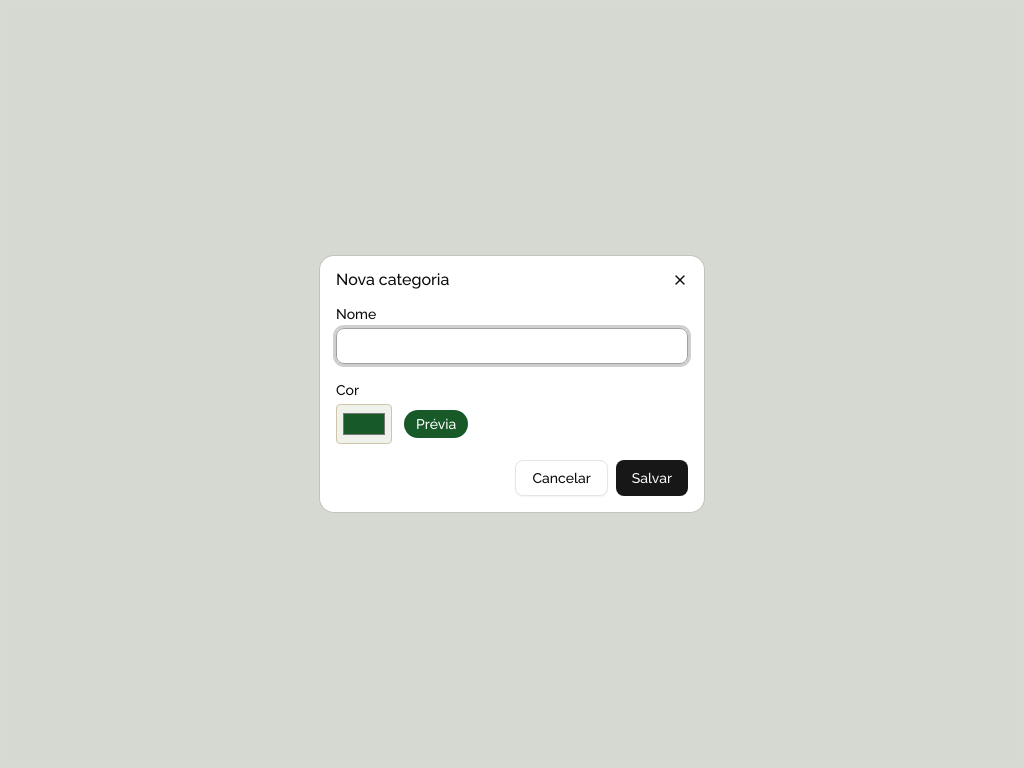
CategoryDialog › surfaces the backend error and keeps the dialog open when saving fails
Type "Bingo" into the field labelled "Nome" at [512, 346], box top-left (336, 328), bottom-right (688, 364)
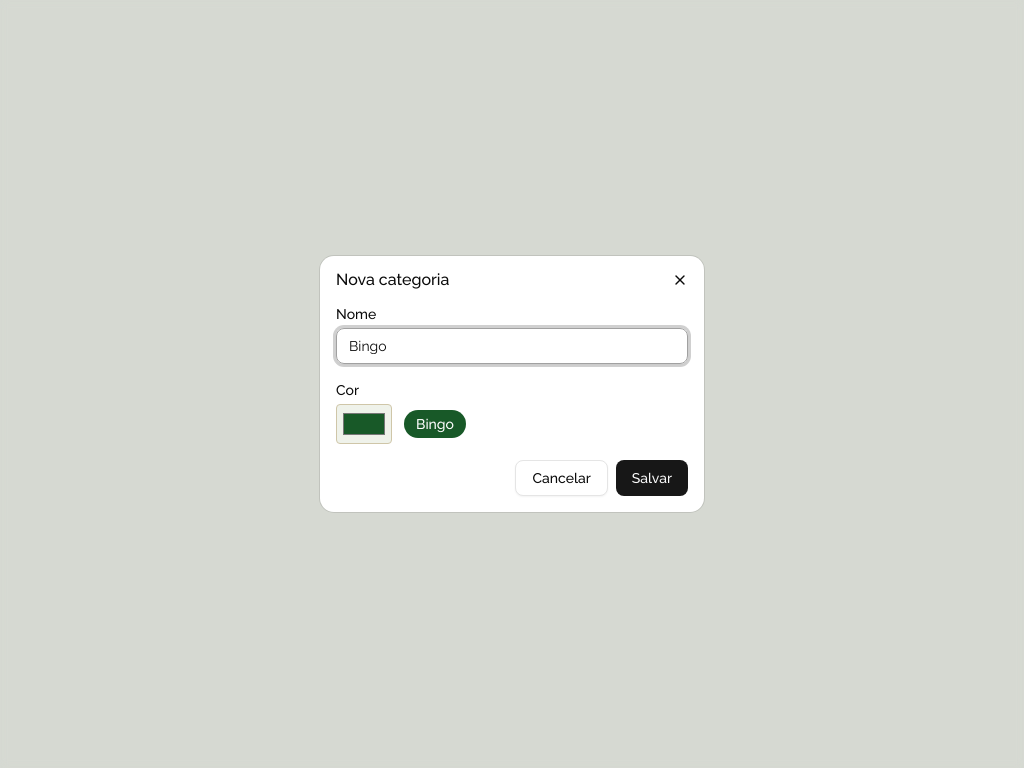
Click the button "Salvar" at [652, 478], box top-left (616, 460), bottom-right (688, 496)
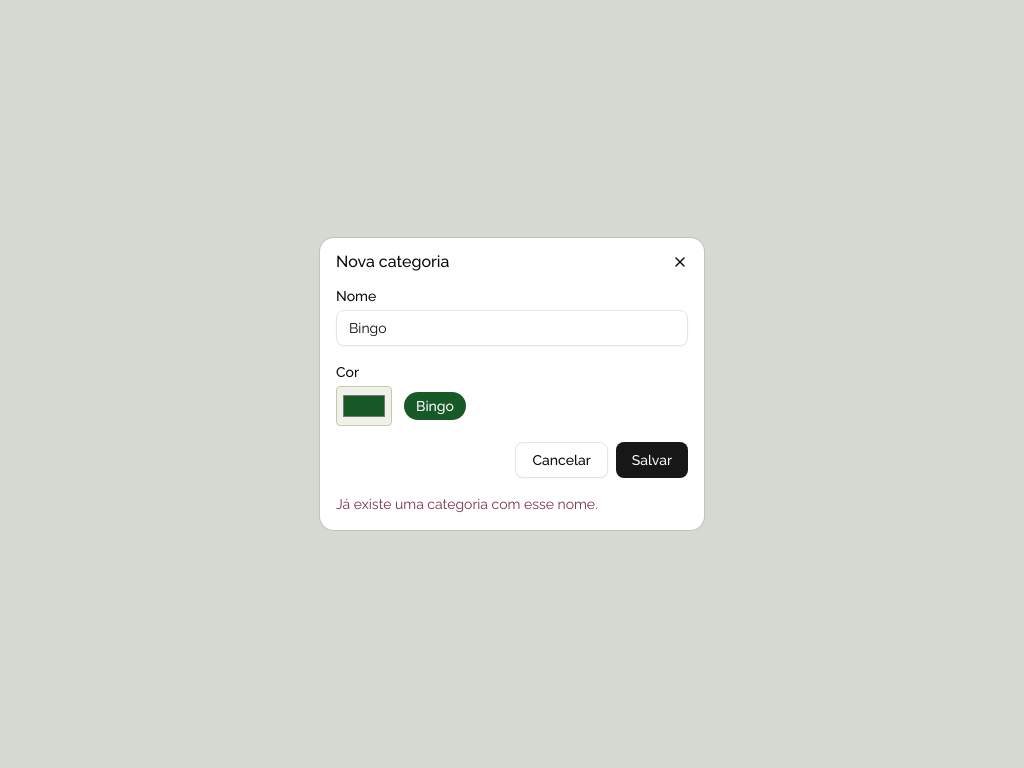
Now the message reads "Já existe uma categoria com esse nome.", box top-left (336, 496), bottom-right (598, 512)
